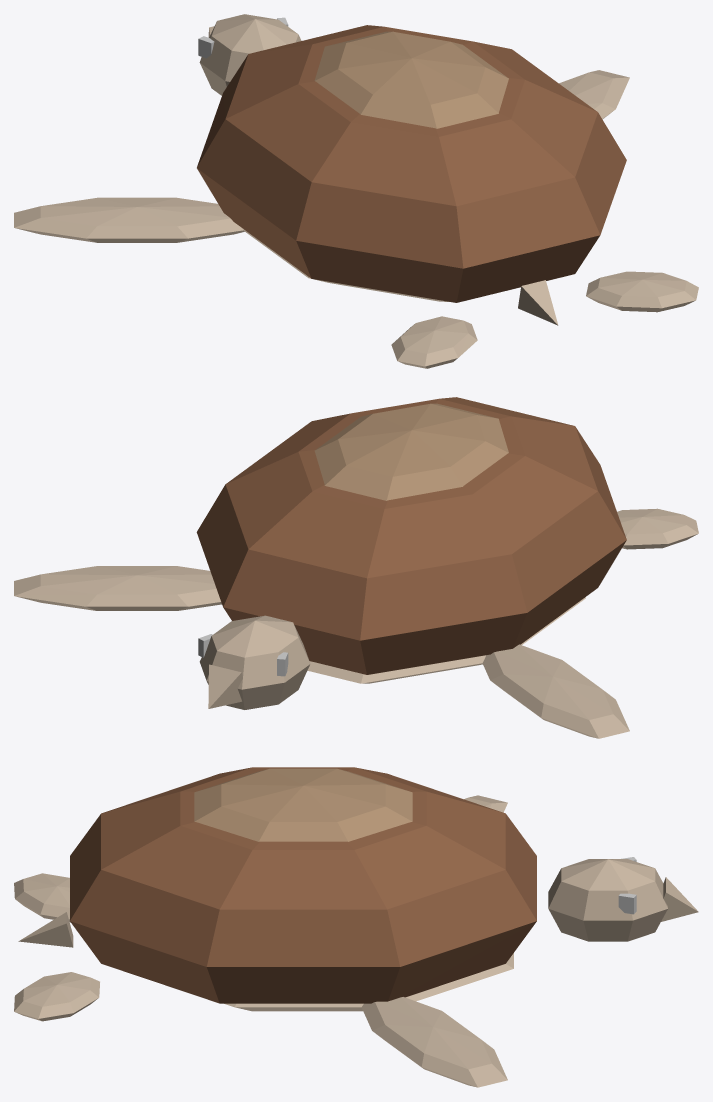
Rendered from animal_seaturtle.obj.
3 views of the same model, one above another, from view 1: azimuth 30°, elevation 25°; view 2: azimuth 150°, elevation 25°; view 3: azimuth 270°, elevation 25° (orthographic). The views are drawn at different scales.
Visible parts, largest first — view 1: animal_seaturtle; view 2: animal_seaturtle; view 3: animal_seaturtle.
Boxes of the visible parts, x1=… form: animal_seaturtle: x1=14, y1=14, x2=698, y2=368; animal_seaturtle: x1=14, y1=397, x2=698, y2=738; animal_seaturtle: x1=14, y1=767, x2=698, y2=1087.
Bounding box in the file's own units: 0.9388 × 0.2948 × 0.9297.
